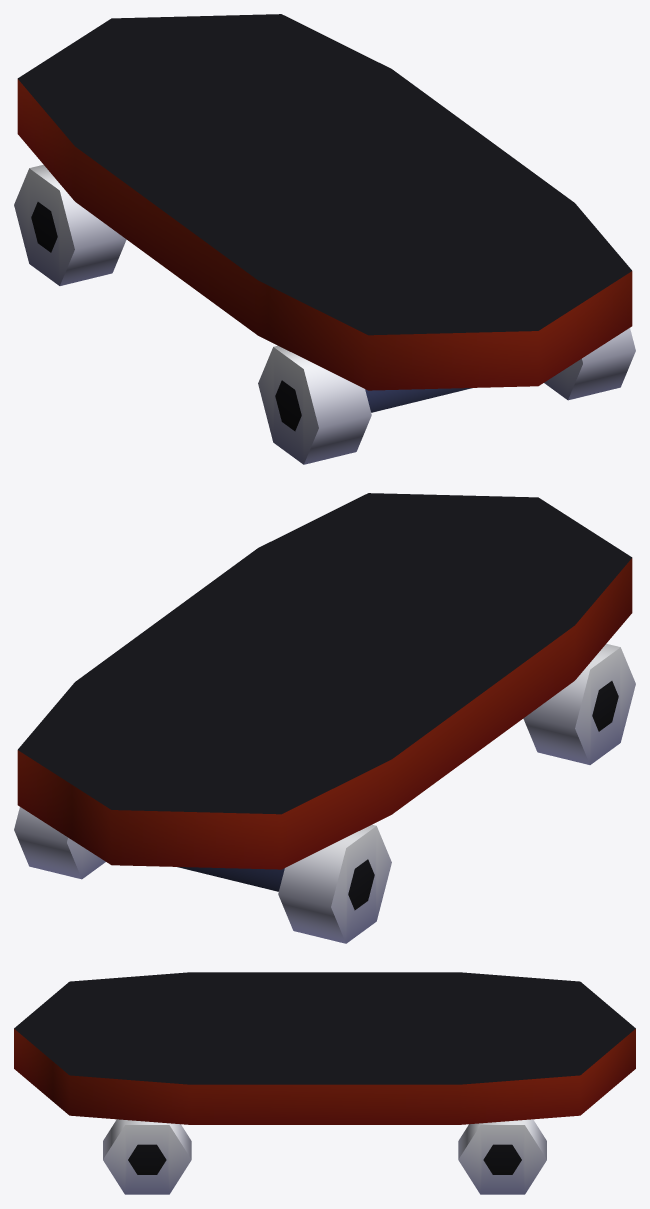
Rendered from skateboard.fbx.
The picture shows the model from 3 angles, top to bottom: view 1: azimuth 30°, elevation 25°; view 2: azimuth 150°, elevation 25°; view 3: azimuth 270°, elevation 25°; orthographic projection. The views are drawn at different scales.
Visible parts, largest first — view 1: skateboard; view 2: skateboard; view 3: skateboard.
Part boxes in pixels (x1,y1,x2,y2): skateboard: (14, 14, 635, 464); skateboard: (14, 493, 635, 943); skateboard: (14, 972, 635, 1194).
Size of the model in its own units: 3 by 1.37 by 7.
